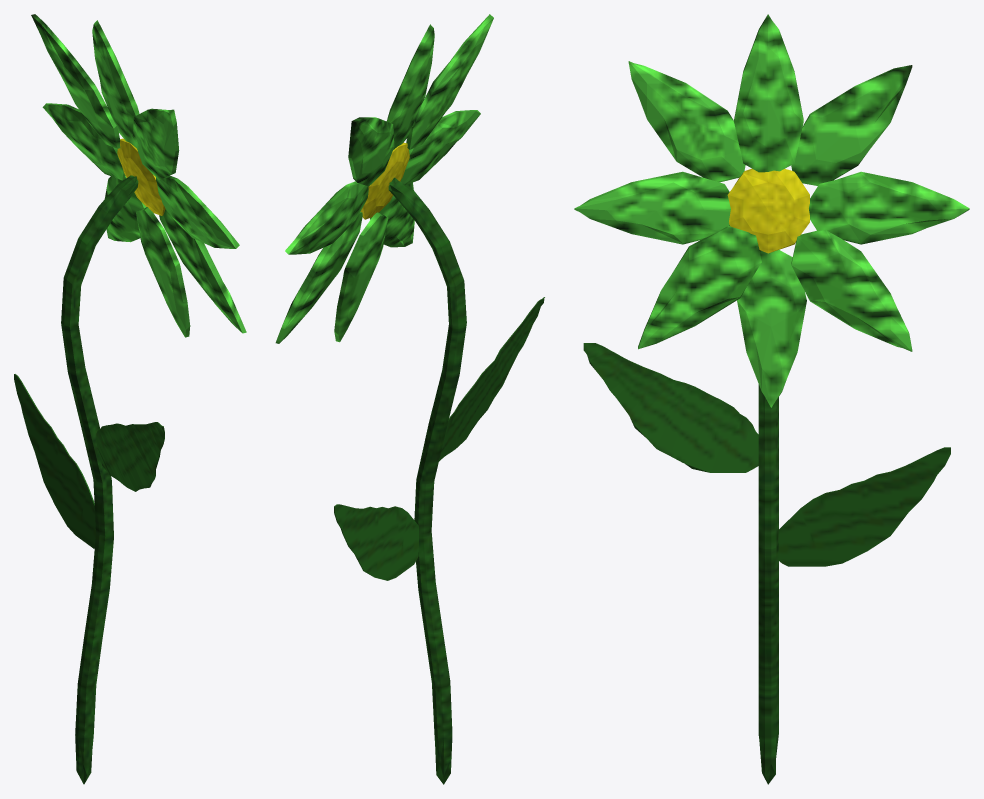
File: Flower.glb
3 renders of one model, left to right at view 1: azimuth 30°, elevation 25°; view 2: azimuth 150°, elevation 25°; view 3: azimuth 270°, elevation 25°, orthographic. The views are drawn at different scales.
Visible parts, largest first — view 1: Flower; view 2: Flower; view 3: Flower.
Boxes of the visible parts, <box> form: Flower: <box>14,14,246,784</box>; Flower: <box>275,14,544,784</box>; Flower: <box>574,14,969,784</box>.
Bounding box in the file's own units: 71.11 × 404 × 186.
Materials: 1 (1 with a texture image).
